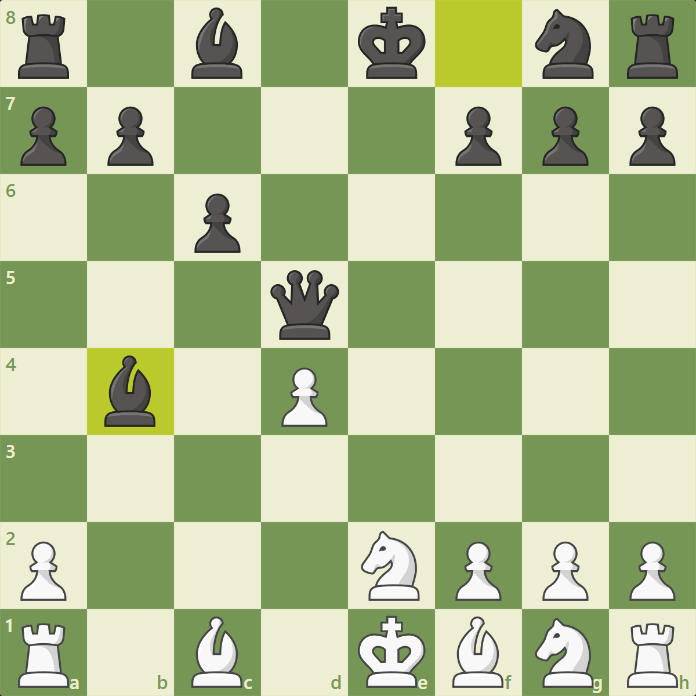B: (450, 613, 507, 691), (188, 614, 245, 690)
K: (356, 612, 428, 691)
N: (533, 616, 596, 692), (360, 529, 422, 605)
P: (452, 539, 506, 604), (537, 538, 591, 603), (624, 538, 678, 603), (275, 364, 329, 429), (16, 538, 70, 603)
R: (16, 621, 74, 692), (624, 621, 681, 691)
b: (98, 353, 159, 430), (188, 4, 245, 83)
k: (355, 4, 429, 82)
n: (532, 6, 597, 83)
p: (192, 189, 245, 258), (105, 101, 158, 170), (16, 101, 69, 170), (452, 102, 505, 171), (539, 101, 592, 170), (625, 101, 678, 170)
q: (267, 268, 343, 343)
r: (14, 11, 73, 82), (623, 10, 681, 82)
